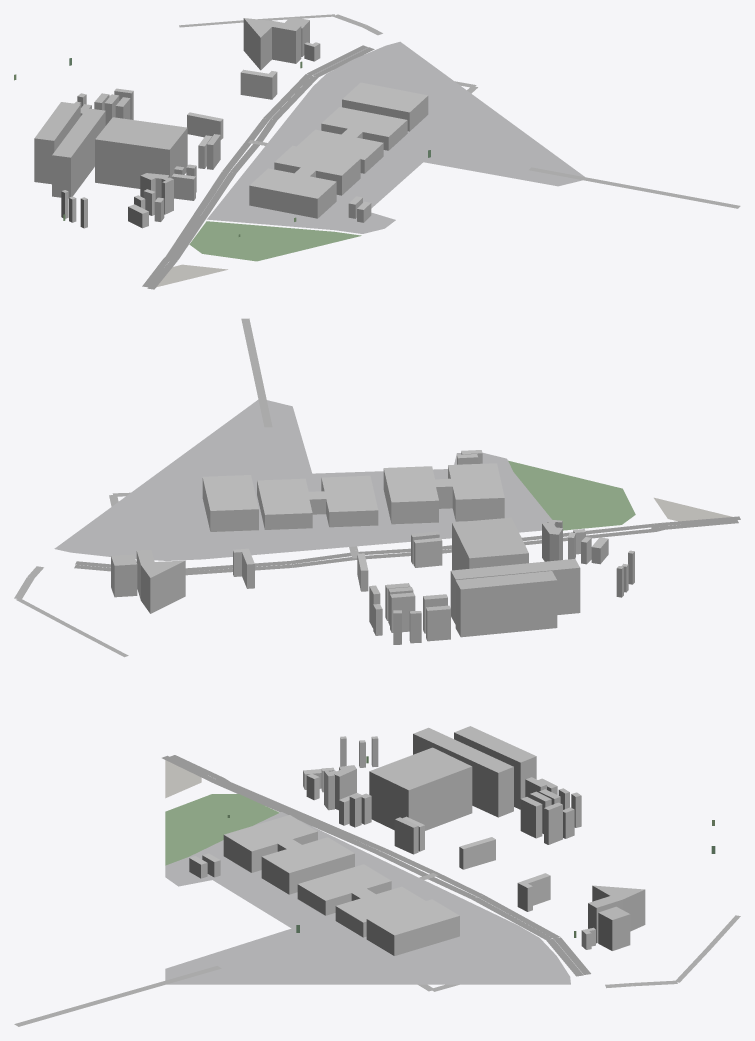
3 views of the same model, one above another, from view 1: azimuth 30°, elevation 25°; view 2: azimuth 150°, elevation 25°; view 3: azimuth 270°, elevation 25° (orthographic). The views are drawn at different scales.
Bounding box in the file's own units: 569 × 49.74 × 630.
